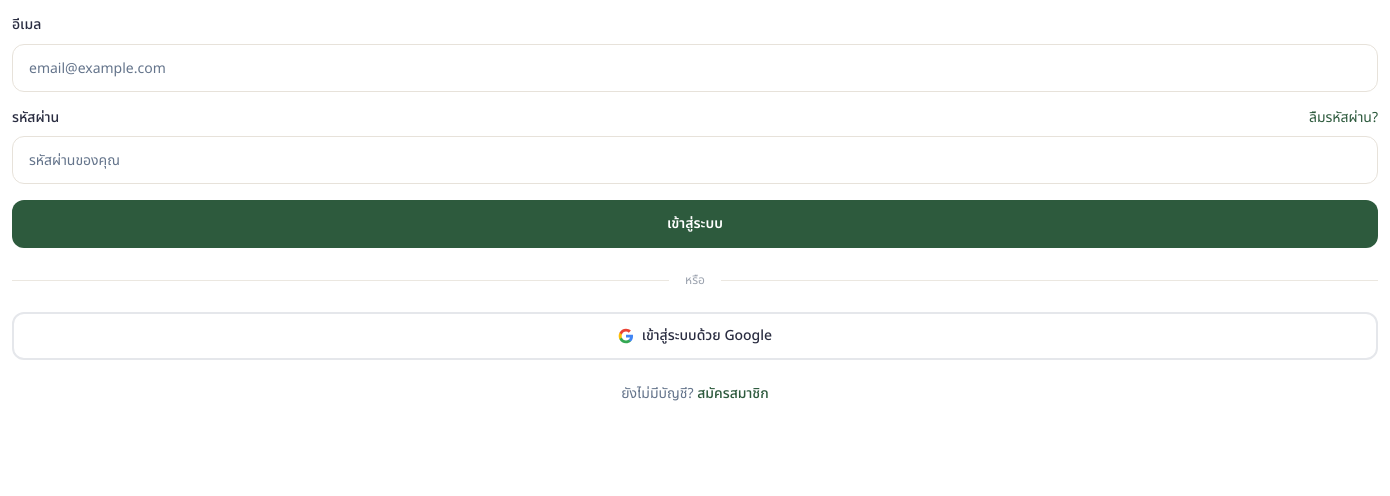
Test: LoginForm › Authentication Failure › shows error message for unconfirmed email
In the field labelled "อีเมล": (695, 68) [12,44,1378,92], type "test@example.com"
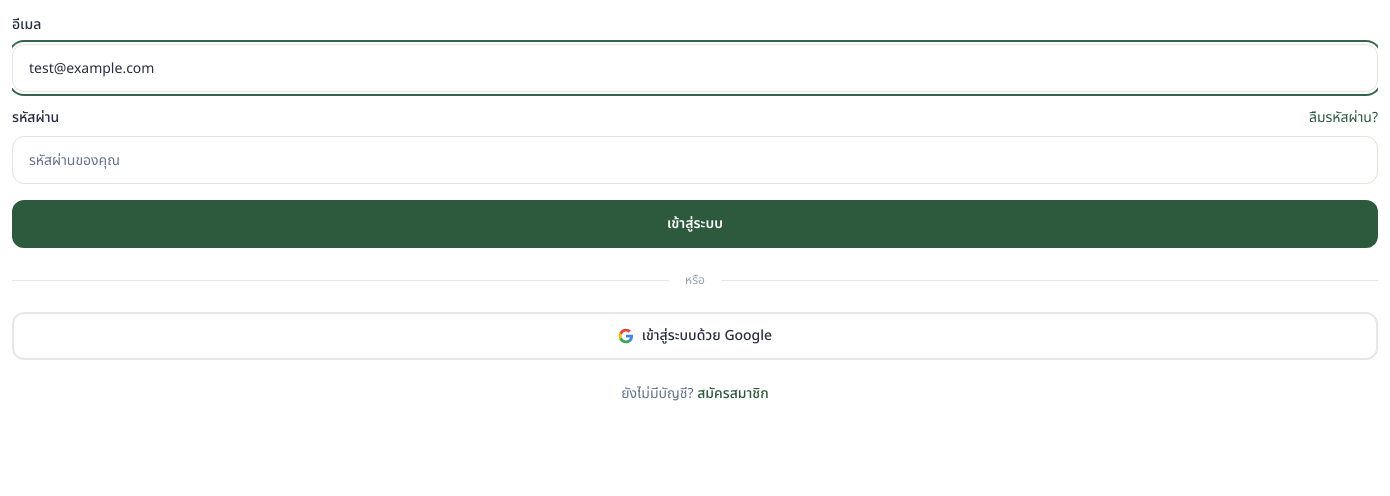
In the password field labelled "รหัสผ่าน": (695, 160) [12,136,1378,184], type "password123"
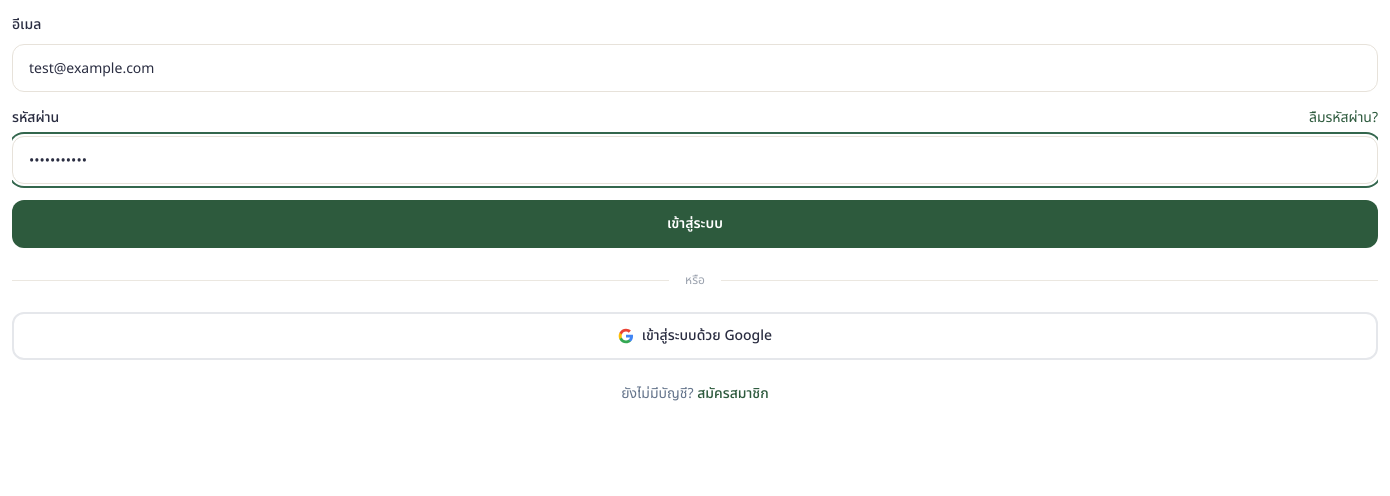
Click the button "เข้าสู่ระบบ": (695, 224) [12,200,1378,248]
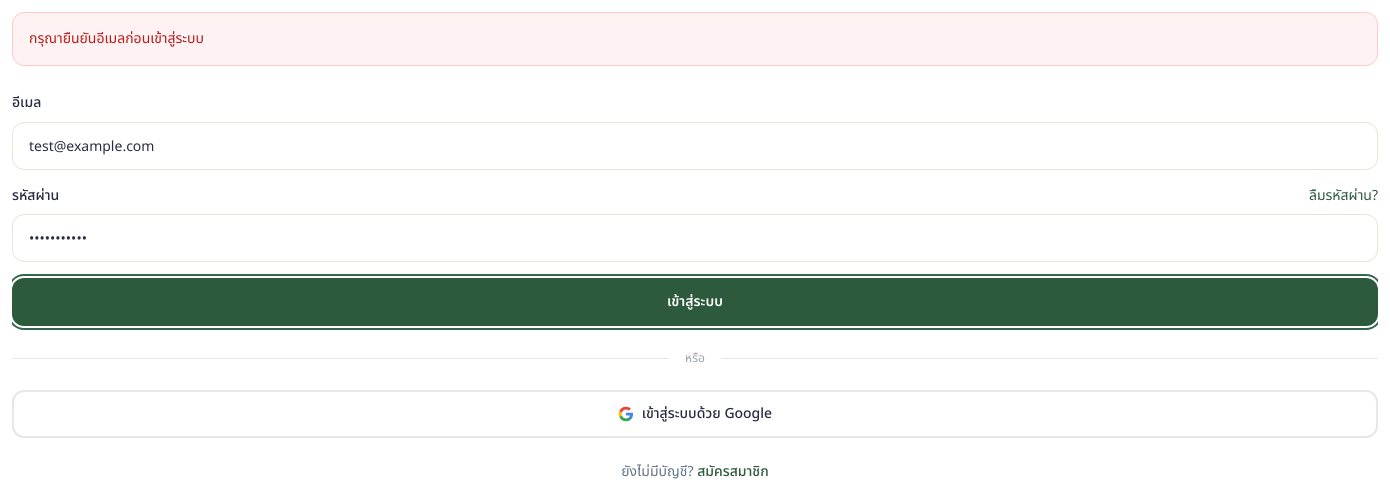
Expected: the text "กรุณายืนยันอีเมลก่อนเข้าสู่ระบบ" is shown, [12,12,1378,66]
